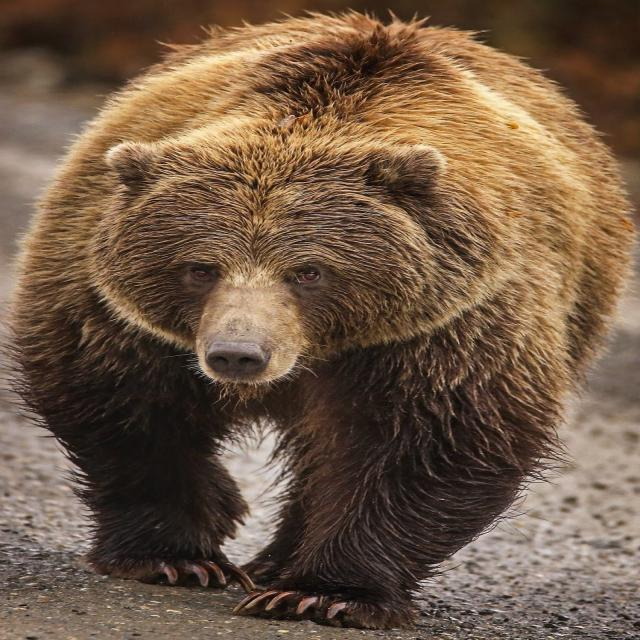bear: (12, 12, 634, 628)
